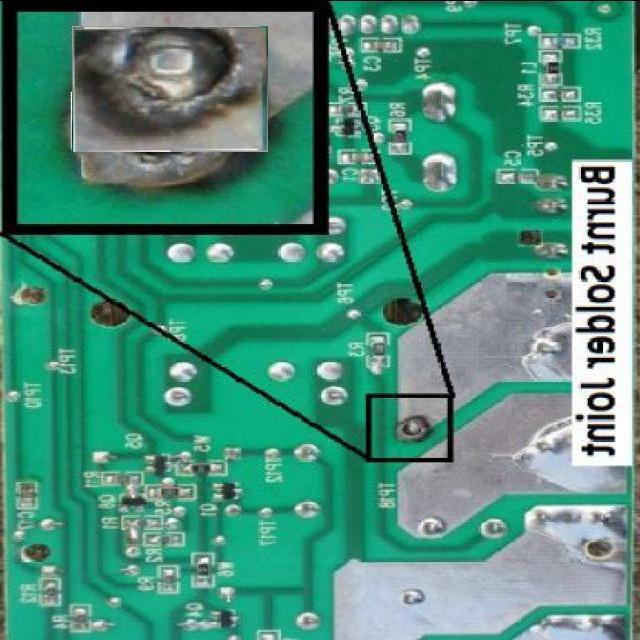damged: (72, 26, 268, 152)
